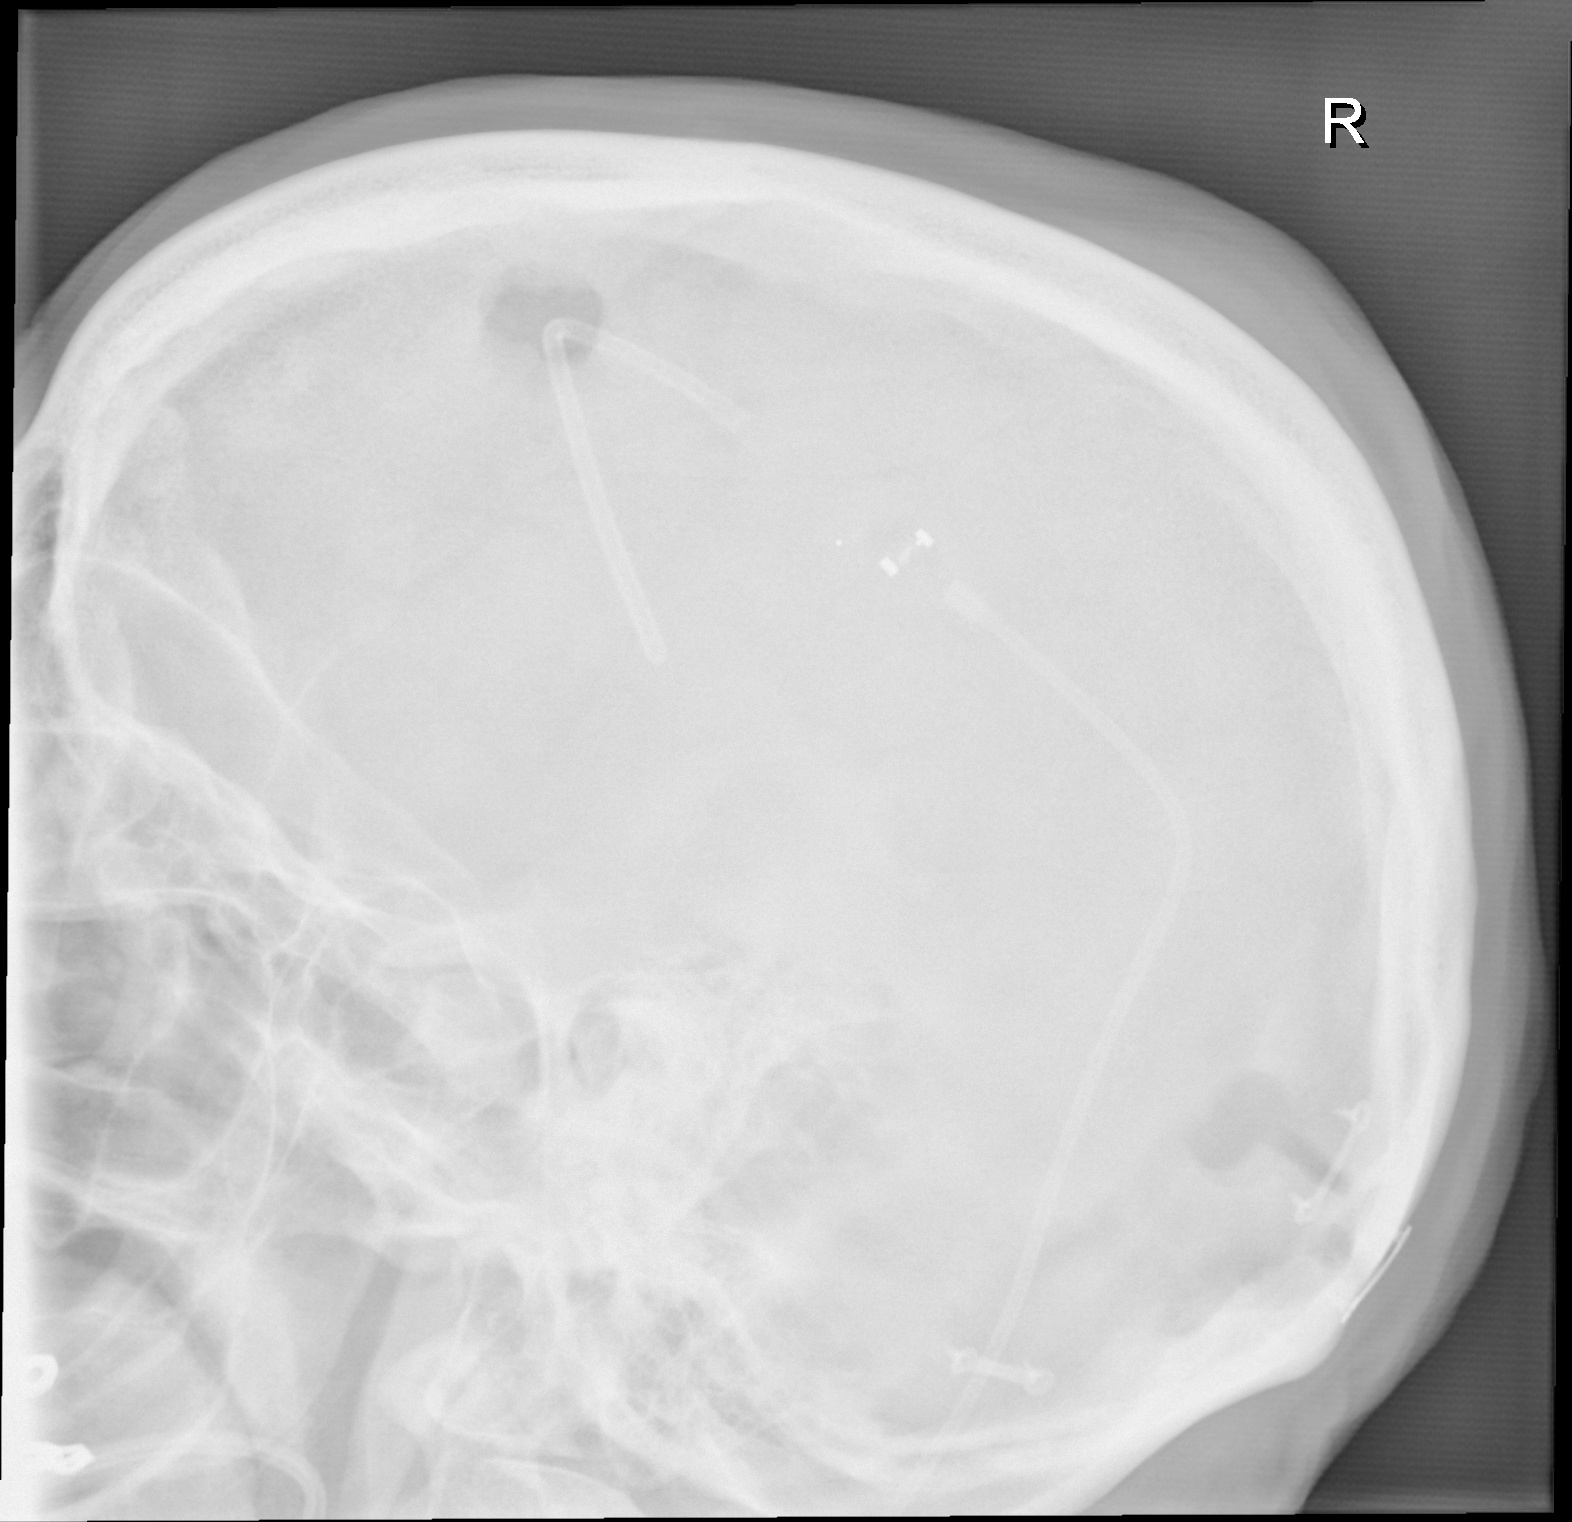Codman Certas: (827, 494, 963, 625)
